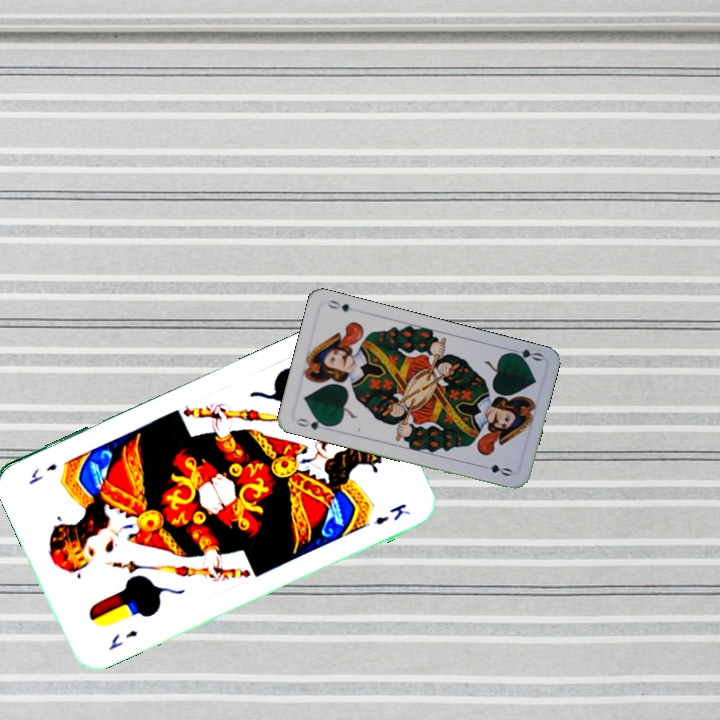EK: (104, 625, 140, 653)
GO: (504, 344, 545, 365), (293, 414, 332, 432)
